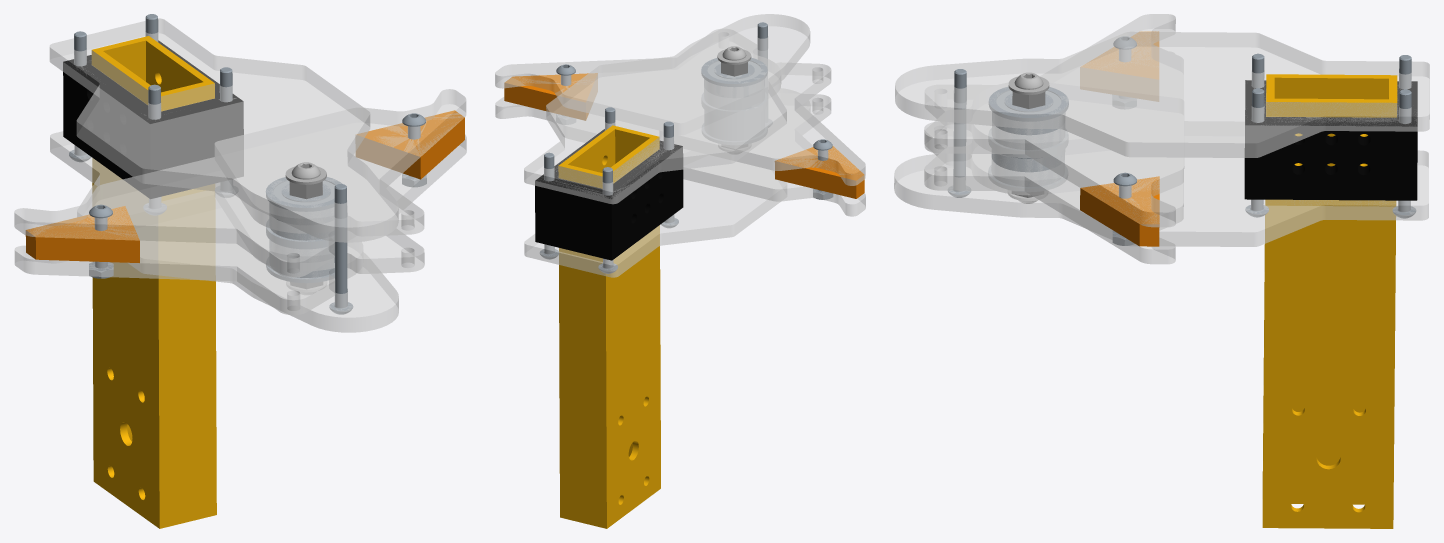
3 renders of one model, left to right at view 1: azimuth 30°, elevation 25°; view 2: azimuth 150°, elevation 25°; view 3: azimuth 270°, elevation 25°, orthographic. The views are drawn at different scales.
Visible parts, largest first — view 1: Barb Middle Plate (×4), Barb Outer Plate (×2), Part 1, Barb Spacer, silicone spacer (×2), .5" Hex ID 1.125" OD Flanged Bearing (217-2734) (×4), Socket button head cap screw #10-32 x 2 (×4), 3/8" 1/4-20 Bolt + Washer (91255A535 + 90107A029), 1/2" Hex (1.75 in); view 2: Barb Outer Plate (×2), Barb Middle Plate (×4), Part 1, Barb Spacer, silicone spacer (×2), .5" Hex ID 1.125" OD Flanged Bearing (217-2734) (×4), Socket button head cap screw #10-32 x 2 (×4), 3/8" 1/4-20 Bolt + Washer (91255A535 + 90107A029); view 3: Barb Outer Plate (×2), Part 1, Barb Middle Plate (×4), Barb Spacer, silicone spacer (×2), .5" Hex ID 1.125" OD Flanged Bearing (217-2734) (×4), Socket button head cap screw #10-32 x 2 (×3), 3/8" 1/4-20 Bolt + Washer (91255A535 + 90107A029).
Part boxes in pixels (x1,y1,x2,y2): Barb Middle Plate (×4): (14,89,466,315); Barb Outer Plate (×2): (49,18,398,332); Part 1: (91,36,216,528); Barb Spacer: (63,40,243,198); silicone spacer (×2): (25,110,464,262); .5" Hex ID 1.125" OD Flanged Bearing (217-2734) (×4): (266,177,342,282); Socket button head cap screw #10-32 x 2 (×4): (69,31,352,314); 3/8" 1/4-20 Bolt + Washer (91255A535 + 90107A029): (285,162,326,184); 1/2" Hex (1.75 in): (289,181,322,288); Barb Outer Plate (×2): (524,14,810,277); Barb Middle Plate (×4): (495,29,865,216); Part 1: (558,125,660,528); Barb Spacer: (535,129,683,260); silicone spacer (×2): (504,73,864,198); .5" Hex ID 1.125" OD Flanged Bearing (217-2734) (×4): (701,58,767,144); Socket button head cap screw #10-32 x 2 (×4): (540,22,772,273); 3/8" 1/4-20 Bolt + Washer (91255A535 + 90107A029): (717,46,751,64); Barb Outer Plate (×2): (894,31,1429,246); Part 1: (1262,74,1397,528); Barb Middle Plate (×4): (924,14,1184,264); Barb Spacer: (1244,80,1417,200); silicone spacer (×2): (1080,31,1159,246); .5" Hex ID 1.125" OD Flanged Bearing (217-2734) (×4): (988,86,1068,191); Socket button head cap screw #10-32 x 2 (×3): (948,69,1415,218); 3/8" 1/4-20 Bolt + Washer (91255A535 + 90107A029): (1008,72,1049,94).
Size of the model in its own units: 0.1959 by 0.1903 by 0.208.
